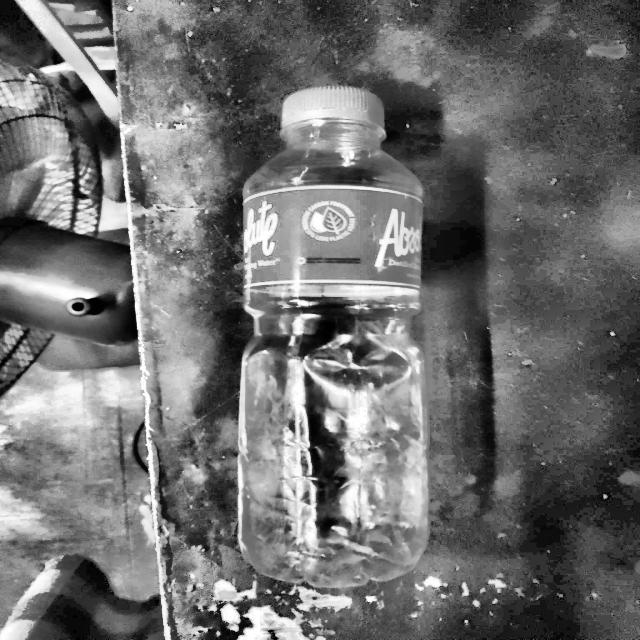Plastic-Bottle: (234, 81, 436, 594)
